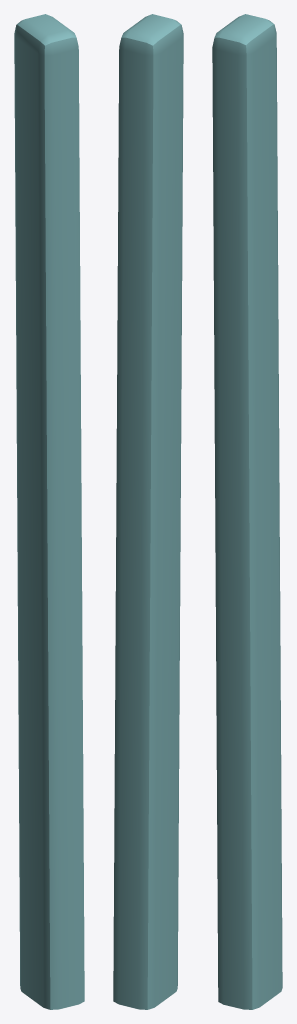
The model's file is BigHand_cleaned.fbx.
The picture shows the model from 3 angles, left to right: view 1: azimuth 30°, elevation 25°; view 2: azimuth 150°, elevation 25°; view 3: azimuth 330°, elevation 25°; orthographic projection.
Parts seen in each view (by area): view 1: polySurface14; view 2: polySurface14; view 3: polySurface14.
Part boxes in pixels (x1,y1,x2,y2): polySurface14: [14, 14, 84, 1009]; polySurface14: [113, 14, 183, 1009]; polySurface14: [212, 14, 282, 1009].
Bounding box in the file's own units: 0.0311 × 0.6273 × 0.0393.
